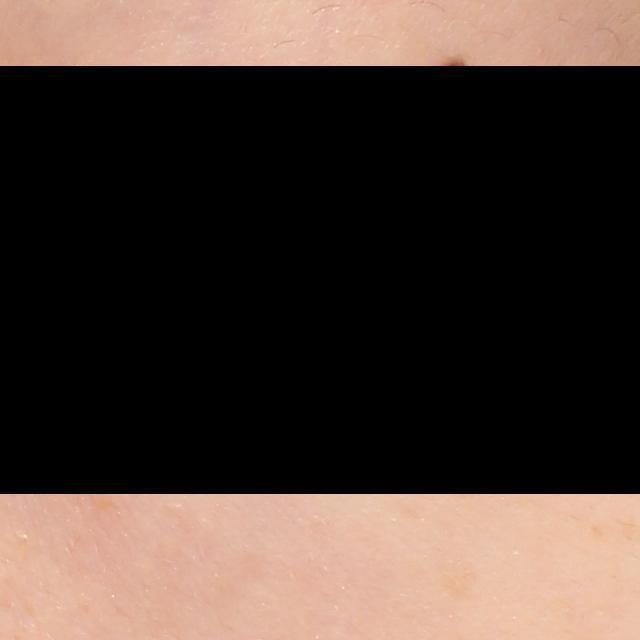melasma: (439, 553, 494, 599)
